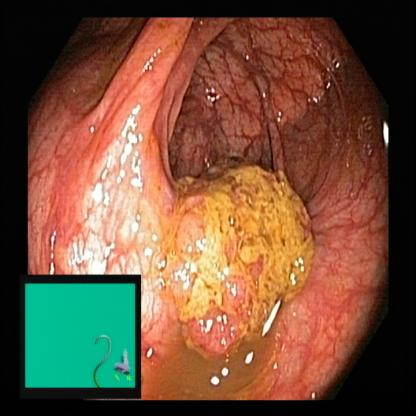Labels: (25, 274, 142, 400)
Polyps: (168, 168, 334, 348)
